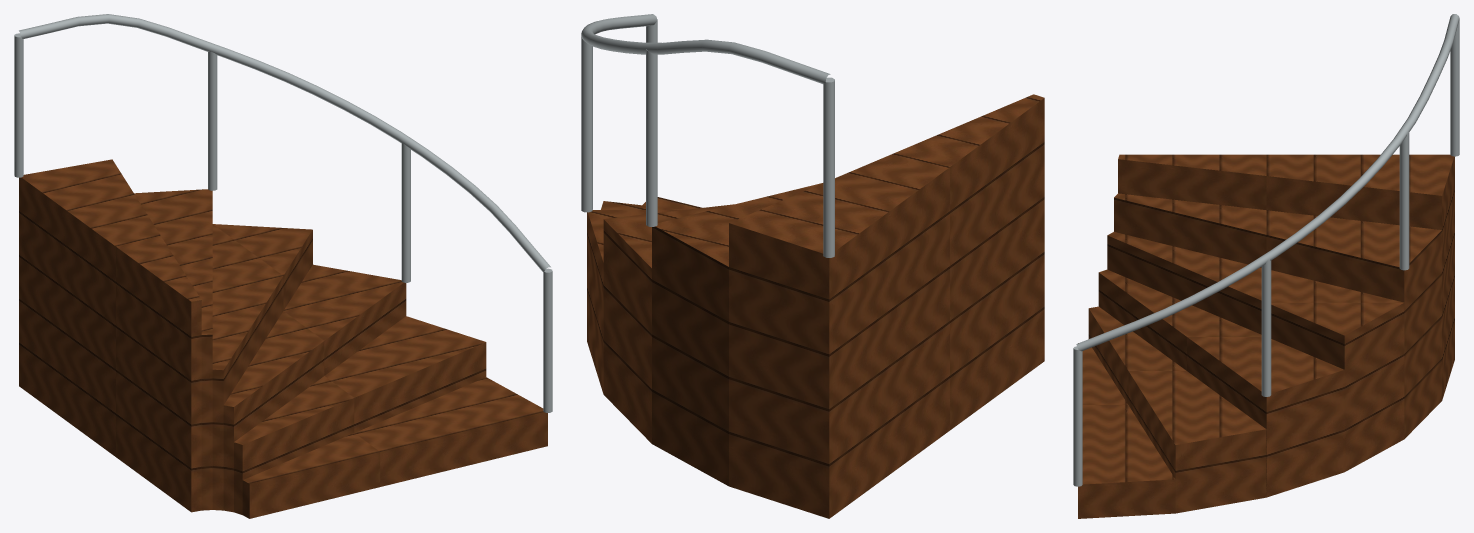
Rendered from modular-survival-base-builder-quarter-turn-stair-1e87815d__24191.glb.
The picture shows the model from 3 angles, left to right: view 1: azimuth 30°, elevation 25°; view 2: azimuth 150°, elevation 25°; view 3: azimuth 270°, elevation 25°; orthographic projection. The views are drawn at different scales.
Parts seen in each view (by area): view 1: quarter-turn-stair; view 2: quarter-turn-stair; view 3: quarter-turn-stair.
Part boxes in pixels (x1=…): quarter-turn-stair: x1=14, y1=14, x2=552, y2=518; quarter-turn-stair: x1=581, y1=14, x2=1044, y2=518; quarter-turn-stair: x1=1073, y1=14, x2=1459, y2=518.
Bounding box in the file's own units: 2.05 × 2.04 × 2.05.
Materials: 2 (1 with a texture image).
